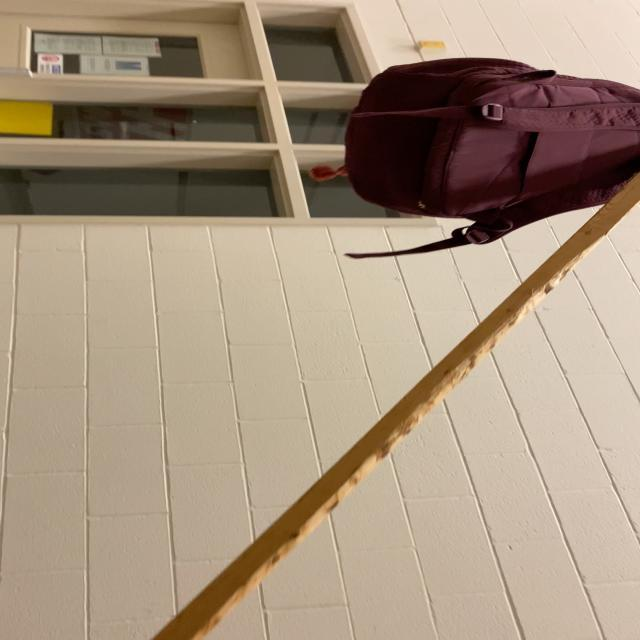Backpacks: (336, 55, 640, 221)
